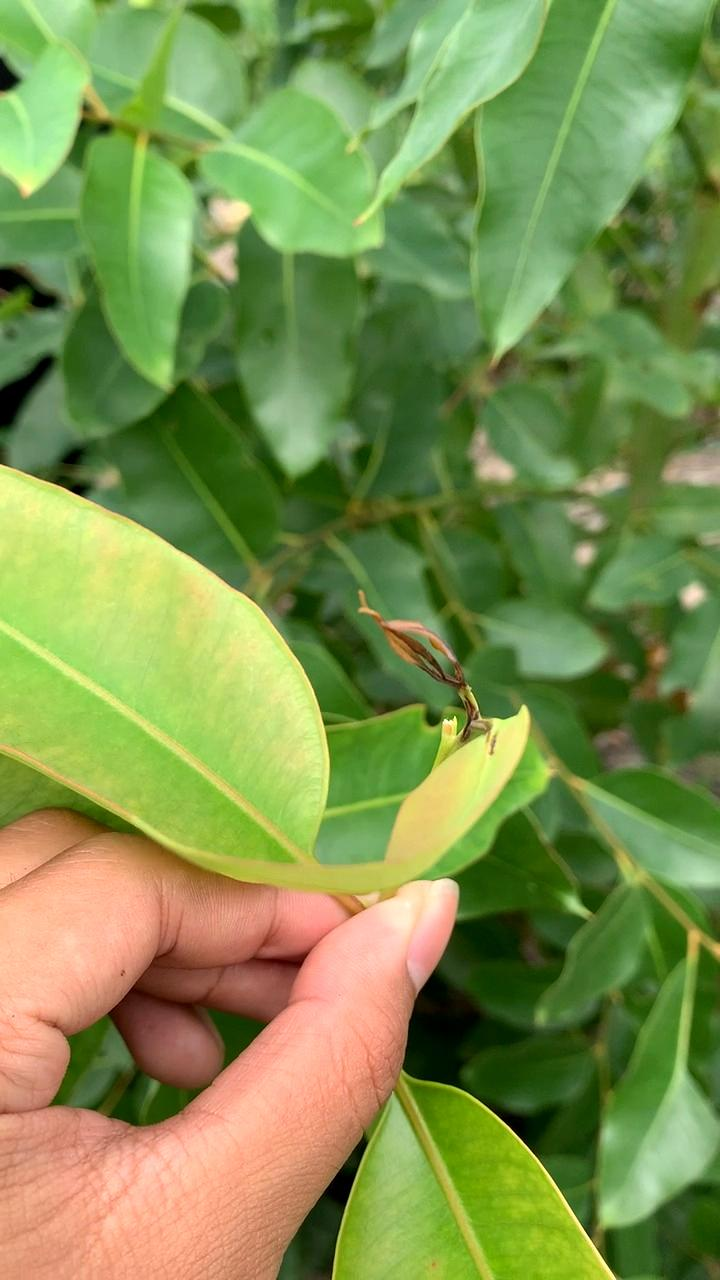Helopeltis-Withered Sprout: (343, 578, 523, 763)
